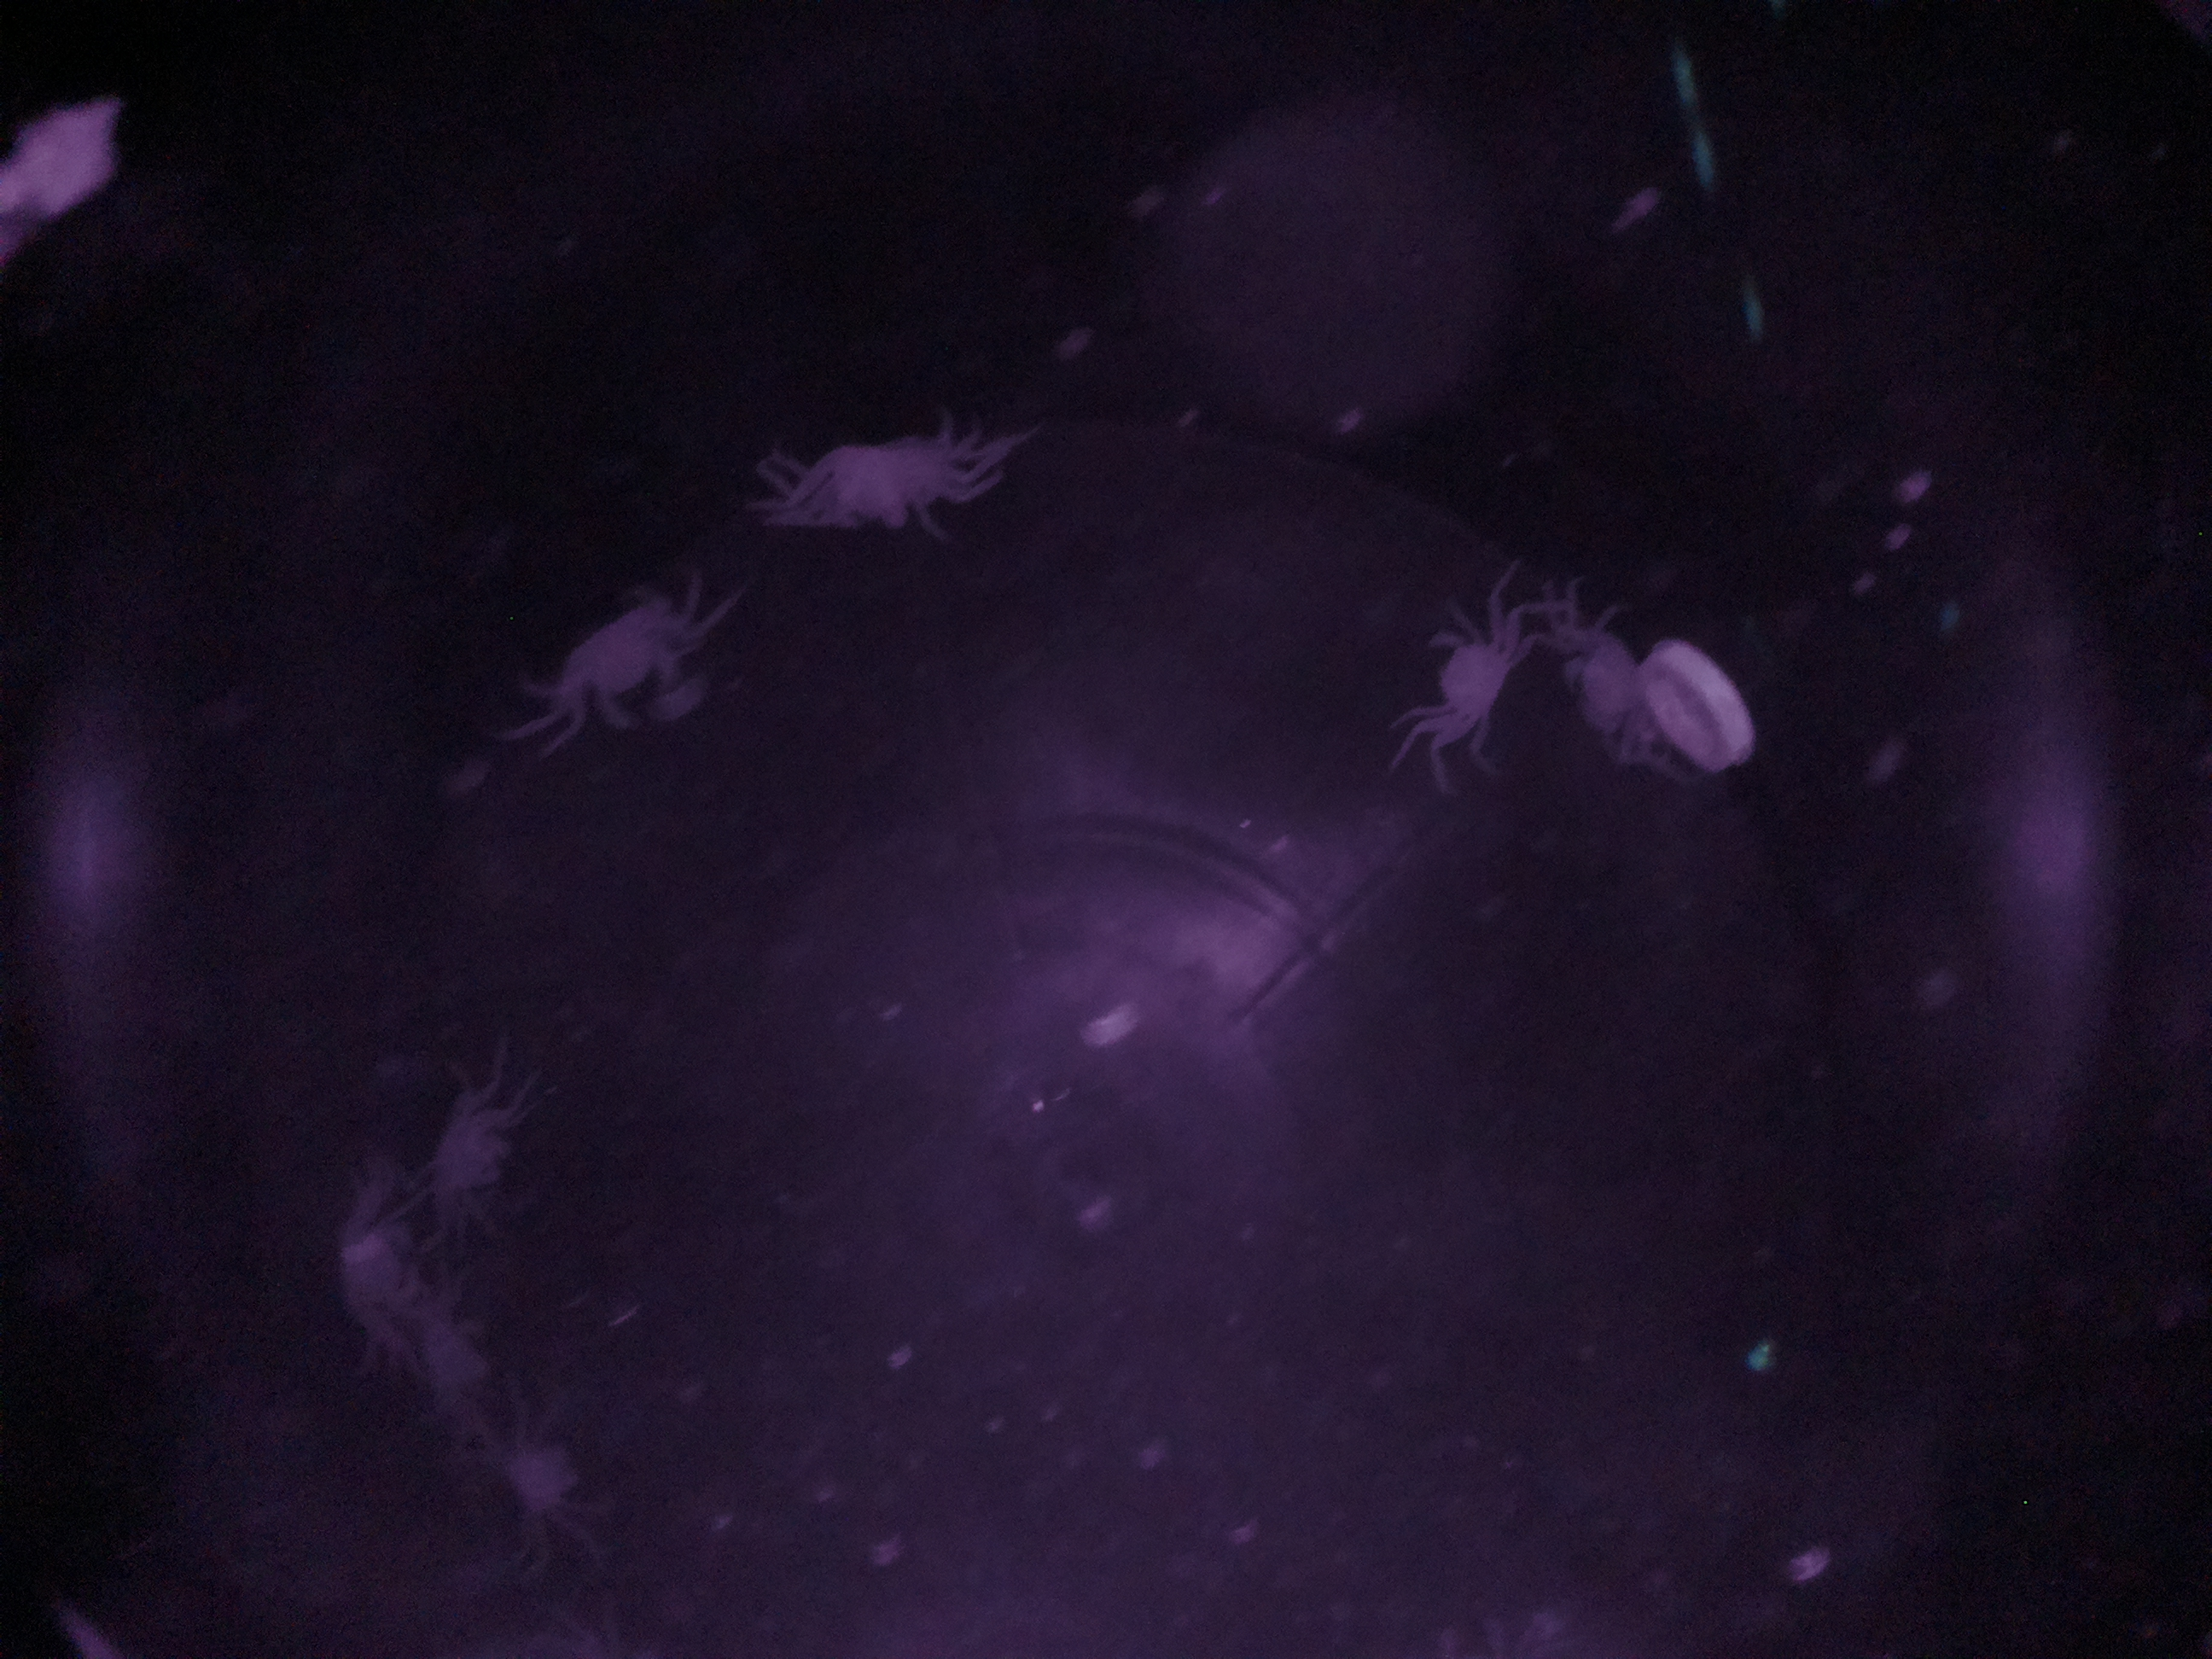Crab: (545, 589, 732, 742), (1404, 589, 1552, 748)
